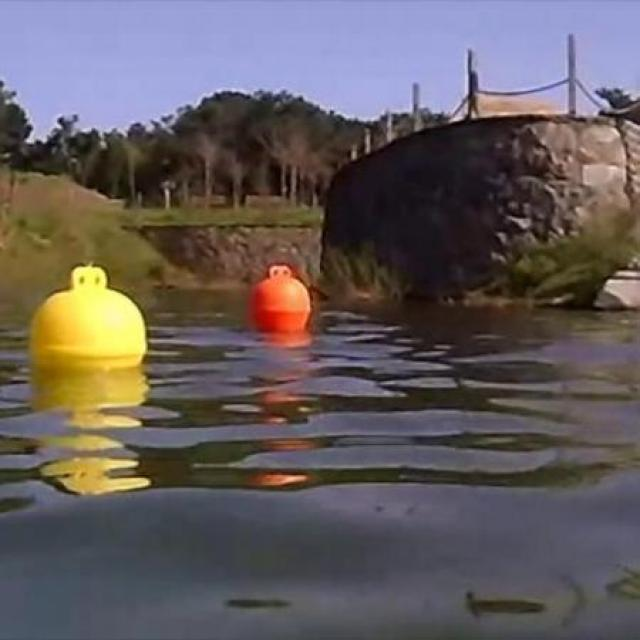buoy: (34, 269, 148, 365), (253, 265, 313, 325)
